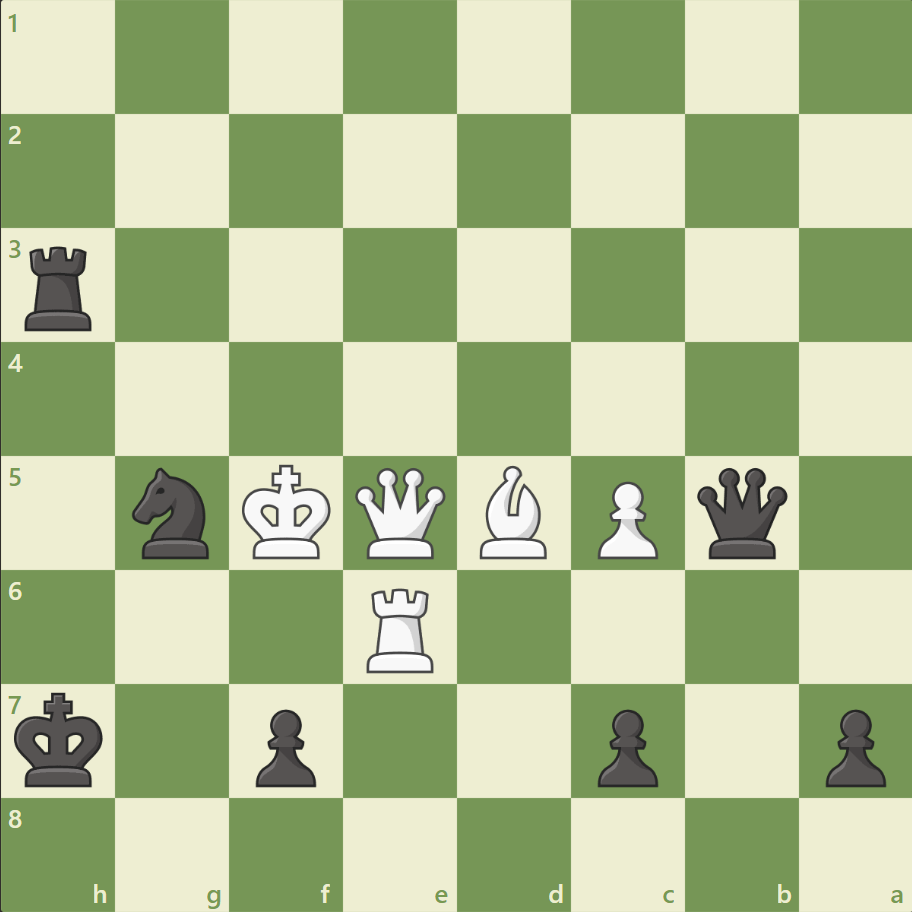B: (471, 460, 555, 563)
K: (238, 458, 338, 566)
P: (588, 473, 662, 564)
Q: (351, 463, 450, 562)
R: (360, 579, 442, 676)
k: (11, 685, 111, 793)
n: (124, 461, 222, 564)
p: (247, 700, 322, 791), (815, 700, 889, 791), (588, 700, 662, 791)
q: (691, 463, 790, 562)
r: (19, 239, 102, 336)
